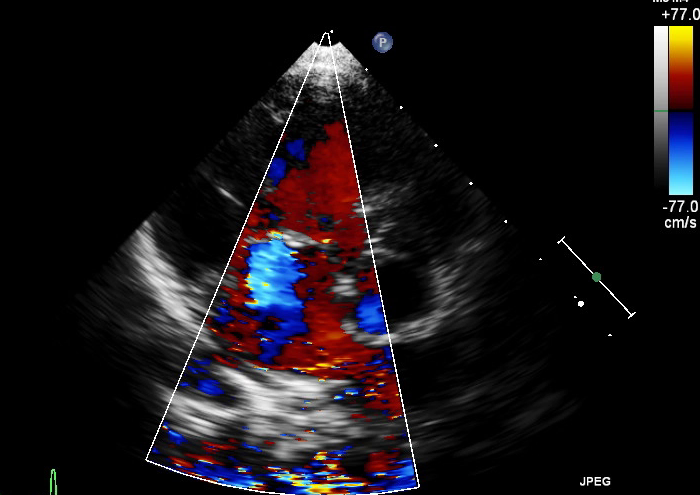TR: (243, 228, 307, 304)
